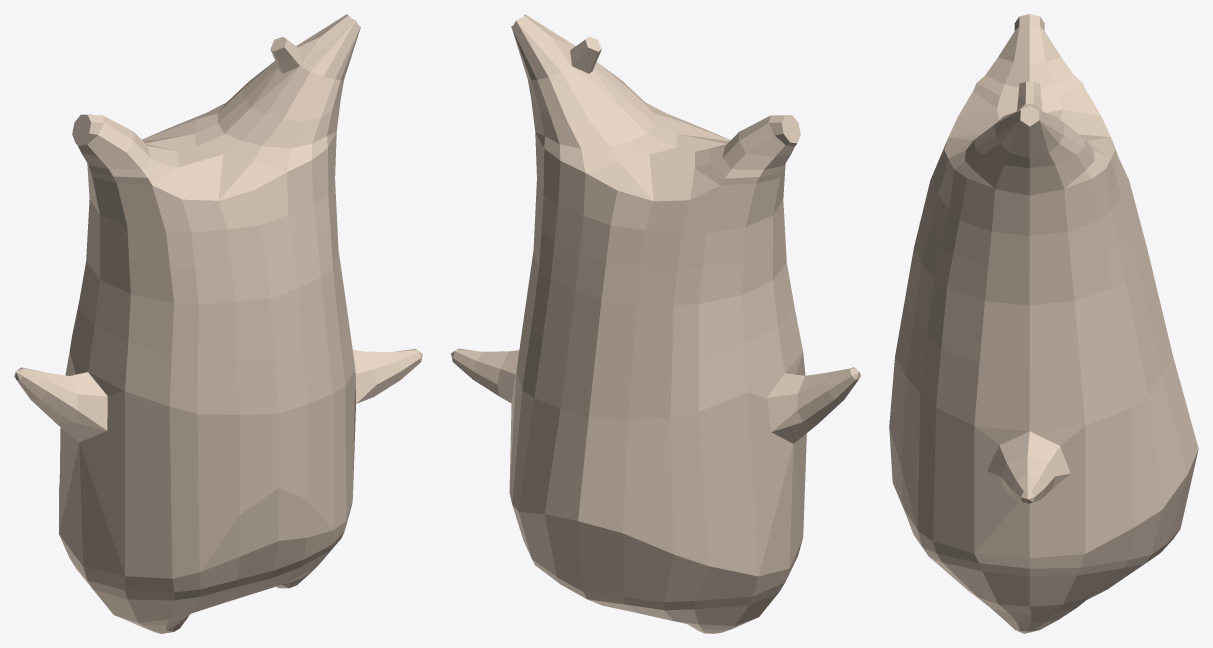
Rendered from frame_0140.obj.
3 renders of one model, left to right at view 1: azimuth 30°, elevation 25°; view 2: azimuth 150°, elevation 25°; view 3: azimuth 270°, elevation 25°, orthographic.
Parts seen in each view (by area): view 1: korok; view 2: korok; view 3: korok.
Part boxes in pixels (left/top/right/bottom): korok: left=14, top=14, right=422, bottom=633; korok: left=451, top=14, right=860, bottom=633; korok: left=889, top=14, right=1198, bottom=633.
Size of the model in its own units: 1.63 by 2.18 by 1.07.
